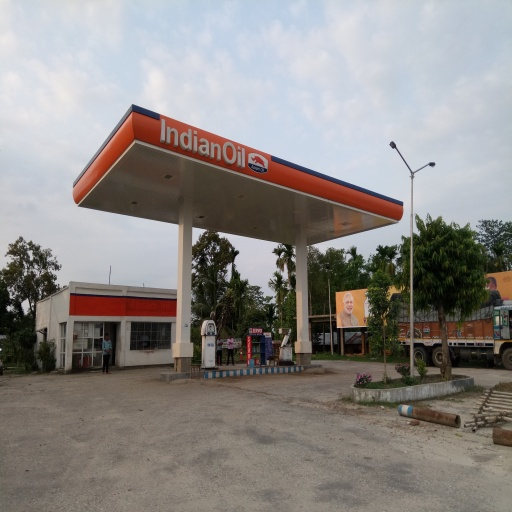roof: (71, 103, 404, 248)
